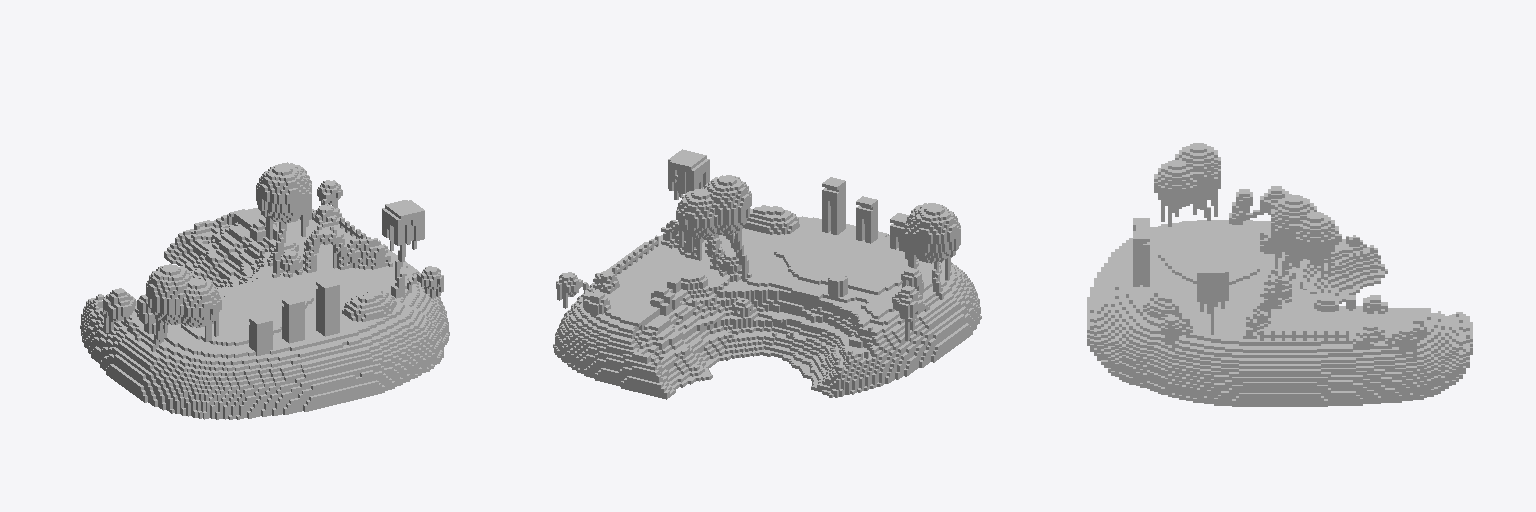
Rendered from Level_1.obj.
3 renders of one model, left to right at view 1: azimuth 30°, elevation 25°; view 2: azimuth 150°, elevation 25°; view 3: azimuth 270°, elevation 25°, orthographic.
Visible parts, largest first — view 1: 1Level; view 2: 1Level; view 3: 1Level.
Part boxes in pixels (x1,y1,x2,y2): 1Level: (80,162,449,419); 1Level: (553,149,981,399); 1Level: (1087,143,1472,406).
Bounding box in the file's own units: 103 × 46 × 109.